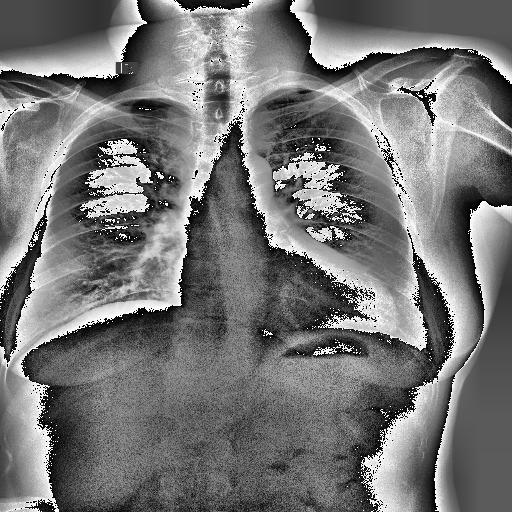3- Cardiomegaly: (169, 254, 399, 335), (168, 269, 400, 338), (170, 265, 403, 333)
